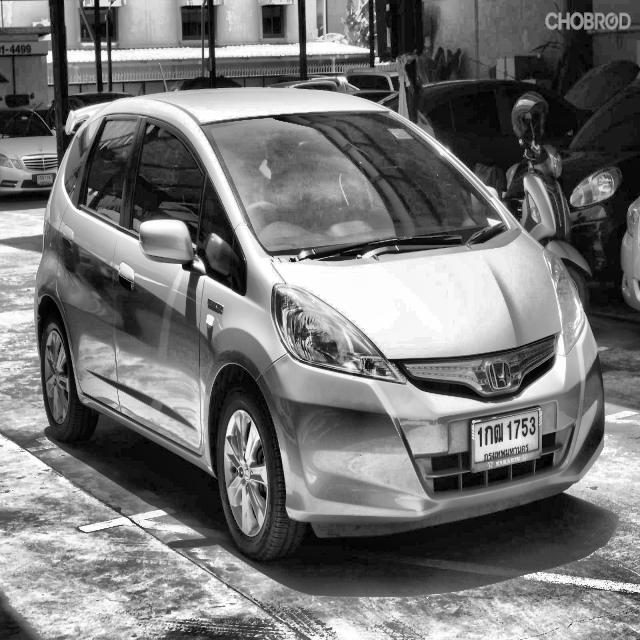license-plate: (462, 402, 552, 476)
